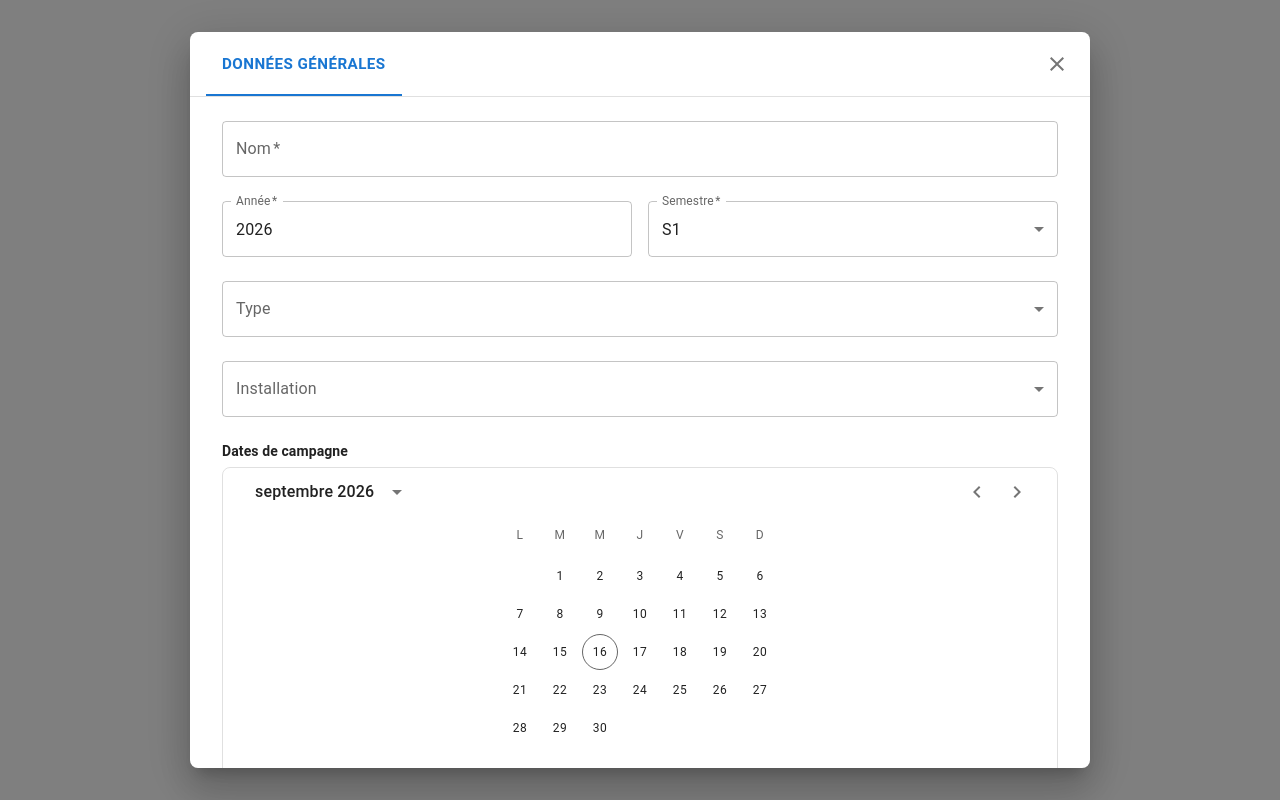
Test case: CreateCampaignModal › Installation Selection › should display all campaign installations in dropdown
The image size is (1280, 800).
Note: Open the Installation dropdown
Click the dropdown next to "Installation".
click(640, 389)  # box [222, 361, 1058, 417]
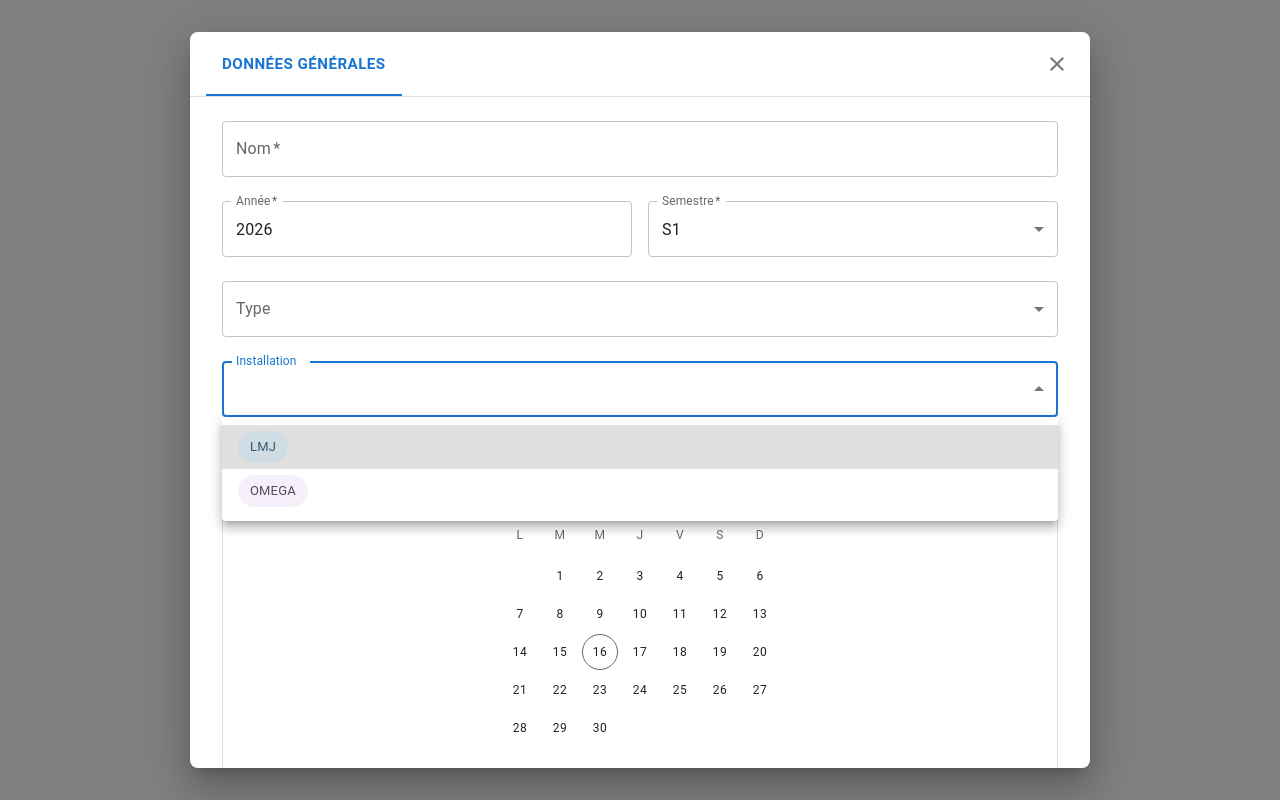
expect the text "LMJ" is shown: met, box [250, 439, 276, 454]
expect the text "OMEGA" is shown: met, box [250, 483, 296, 498]
